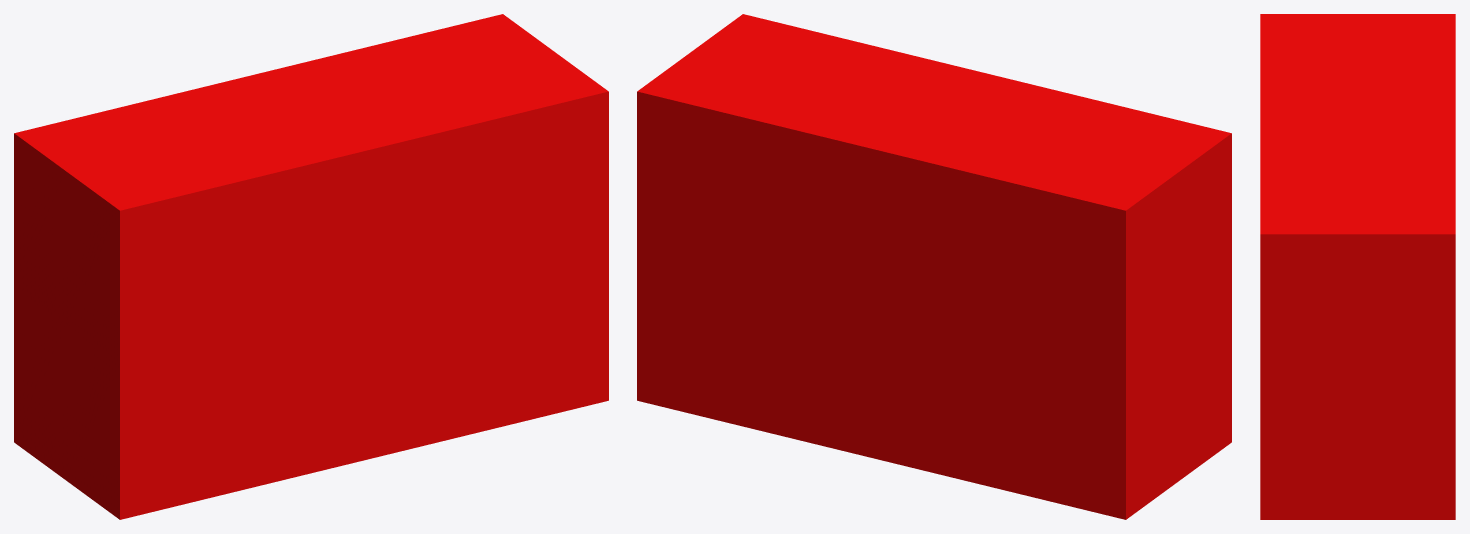
File: mid_phalanx2_lvs_col.dae
3 views of the same model, side by side, from view 1: azimuth 30°, elevation 25°; view 2: azimuth 150°, elevation 25°; view 3: azimuth 270°, elevation 25° (orthographic). The views are drawn at different scales.
Visible parts, largest first — view 1: node0; view 2: node0; view 3: node0.
Part boxes in pixels (x1,y1,x2,y2): node0: (14,14,608,519); node0: (637,14,1231,519); node0: (1260,14,1455,519).
Size of the model in its own units: 0.0146 by 0.00882 by 0.00548.
